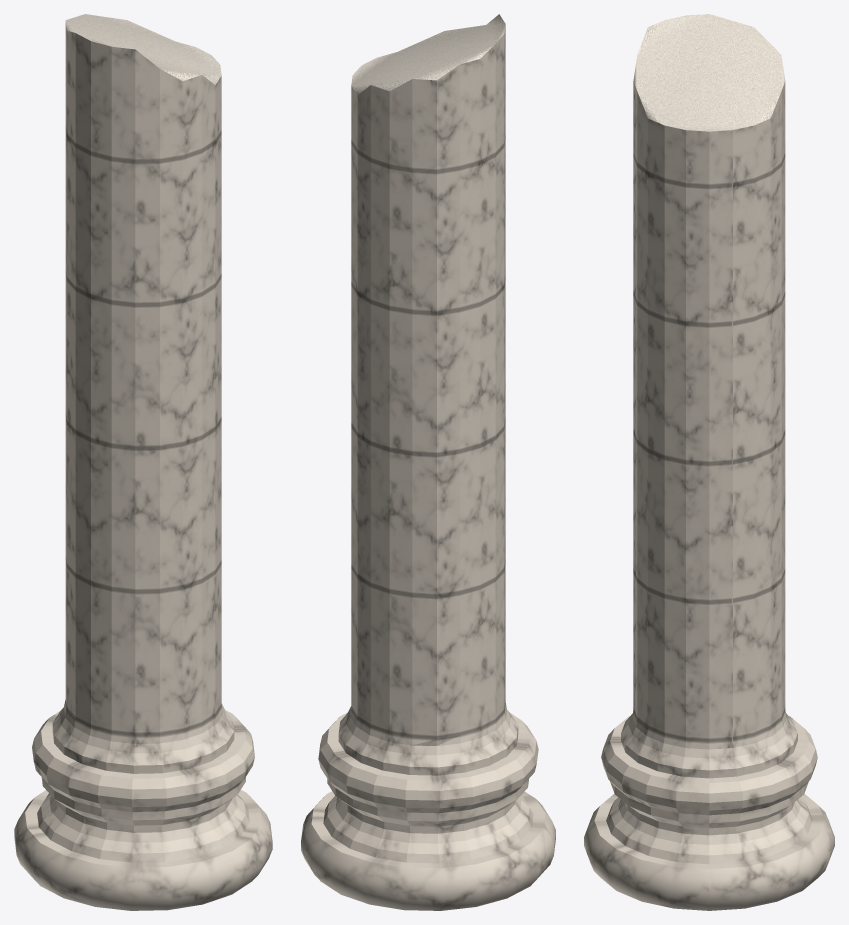
File: Pillar_Broken_1.5.FBX
3 renders of one model, left to right at view 1: azimuth 30°, elevation 25°; view 2: azimuth 150°, elevation 25°; view 3: azimuth 270°, elevation 25°, orthographic. The views are drawn at different scales.
Parts seen in each view (by area): view 1: Cylinder001; view 2: Cylinder001; view 3: Cylinder001.
Part boxes in pixels (x1,y1,x2,y2): Cylinder001: (14, 14, 272, 910); Cylinder001: (301, 14, 555, 910); Cylinder001: (584, 14, 834, 910).
Bounding box in the file's own units: 22.28 × 80.03 × 22.28.
